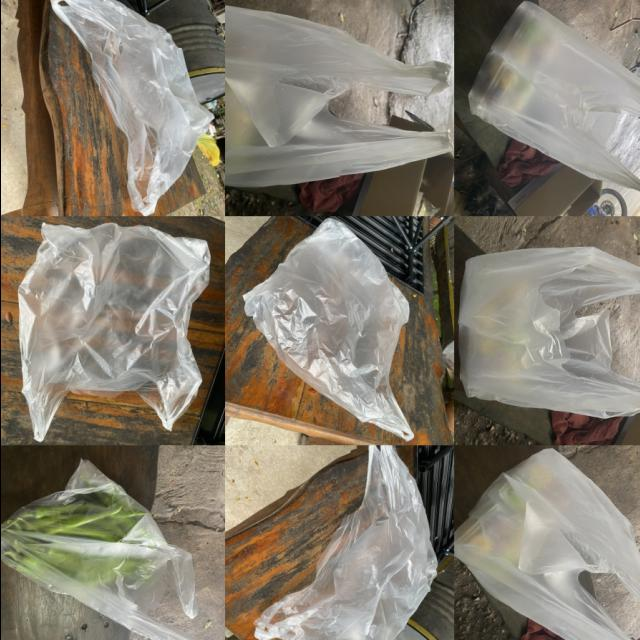plastik: (17, 223, 210, 441), (225, 6, 451, 187), (243, 218, 412, 441), (454, 449, 640, 640), (254, 446, 437, 640), (0, 460, 196, 640), (49, 0, 211, 215), (467, 2, 640, 193), (459, 248, 640, 418)
